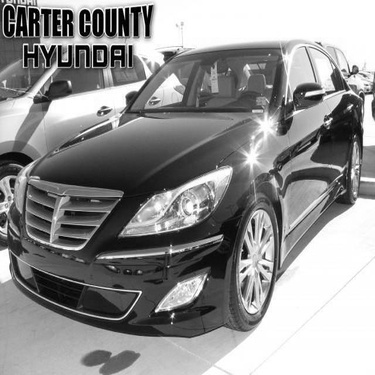car: (4, 35, 369, 342), (1, 33, 195, 254), (306, 39, 371, 127), (354, 57, 373, 98)
